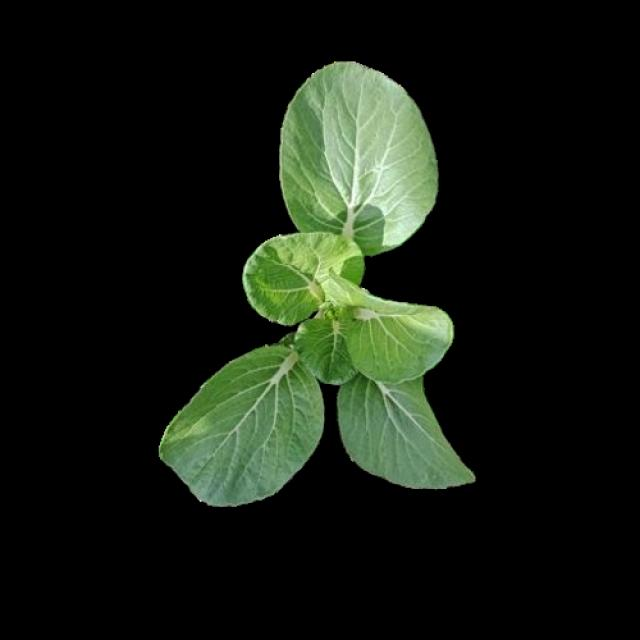healthy: (164, 79, 472, 502)
not-mature: (162, 64, 475, 504)
